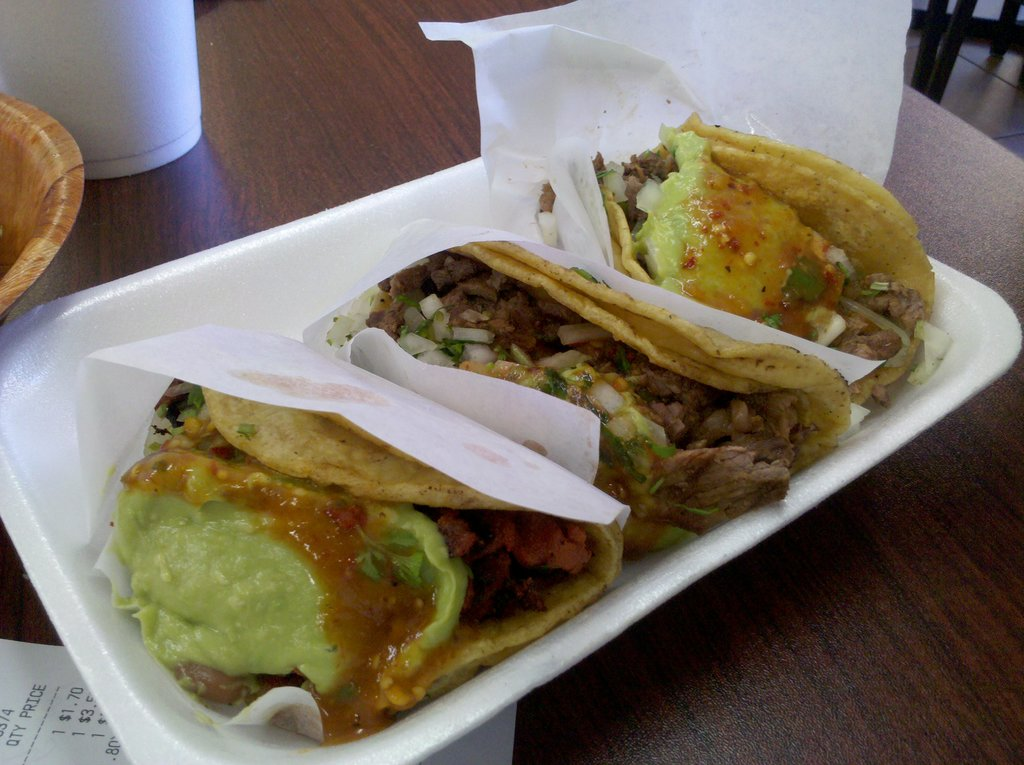taco: (121, 376, 625, 740), (342, 234, 853, 539), (591, 107, 930, 401)
